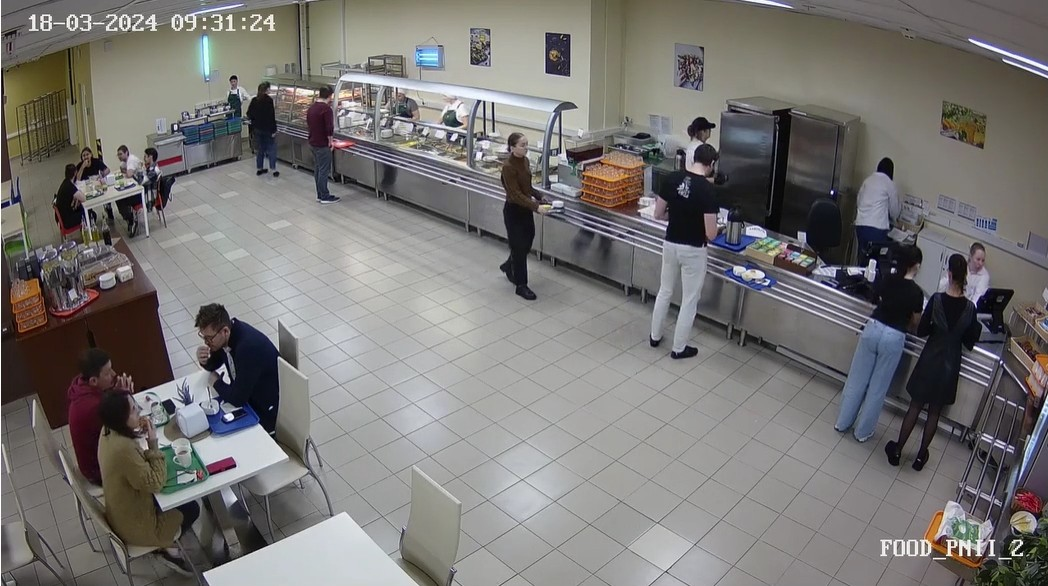Na_Kasse: (827, 248, 994, 473), (765, 234, 939, 449)
Personal: (853, 140, 906, 263), (677, 110, 723, 148), (967, 236, 995, 298), (218, 71, 247, 114)
Vybiraet: (607, 140, 736, 367), (490, 117, 558, 307), (299, 74, 353, 206), (245, 74, 290, 183)
Za_Stolom: (97, 388, 182, 553), (190, 290, 287, 434), (52, 339, 120, 476), (54, 155, 83, 237), (129, 148, 168, 204), (70, 136, 107, 182), (114, 136, 142, 187)
